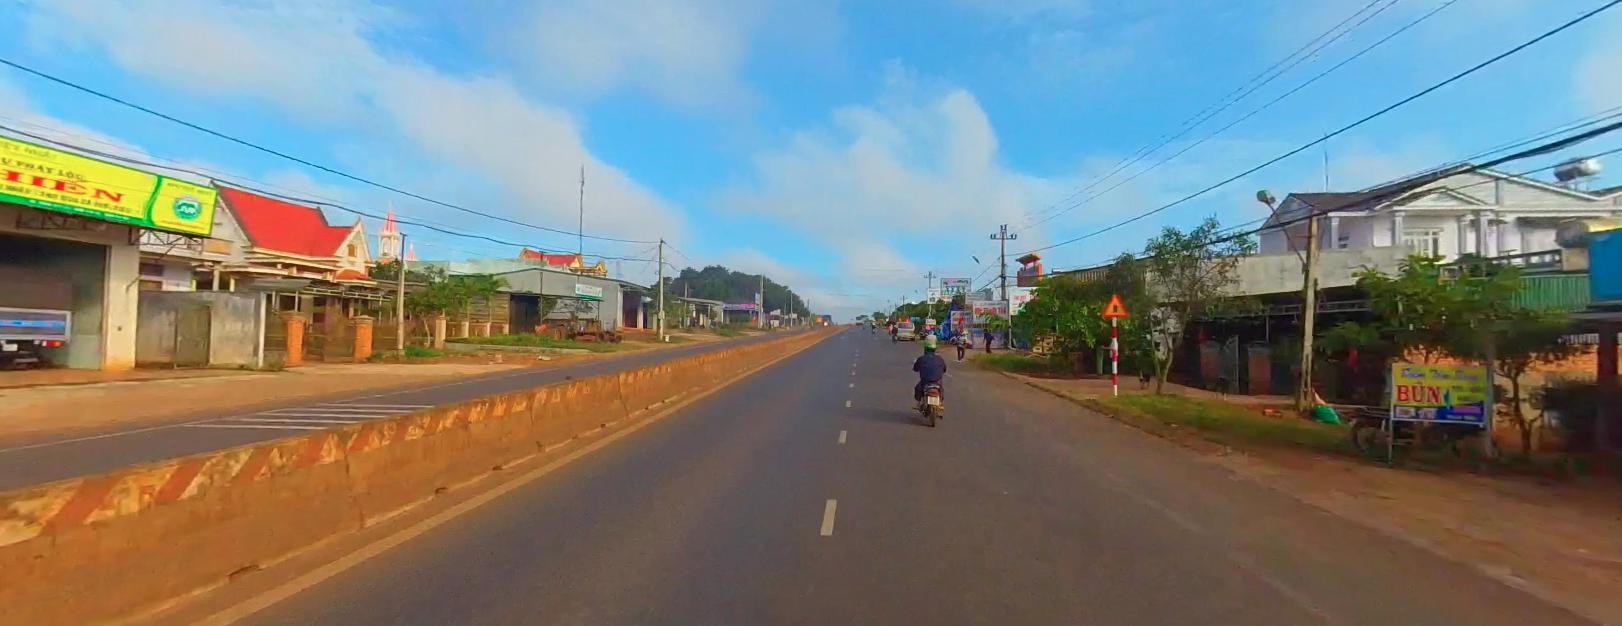Nguy hiem: (1101, 291, 1128, 314)
